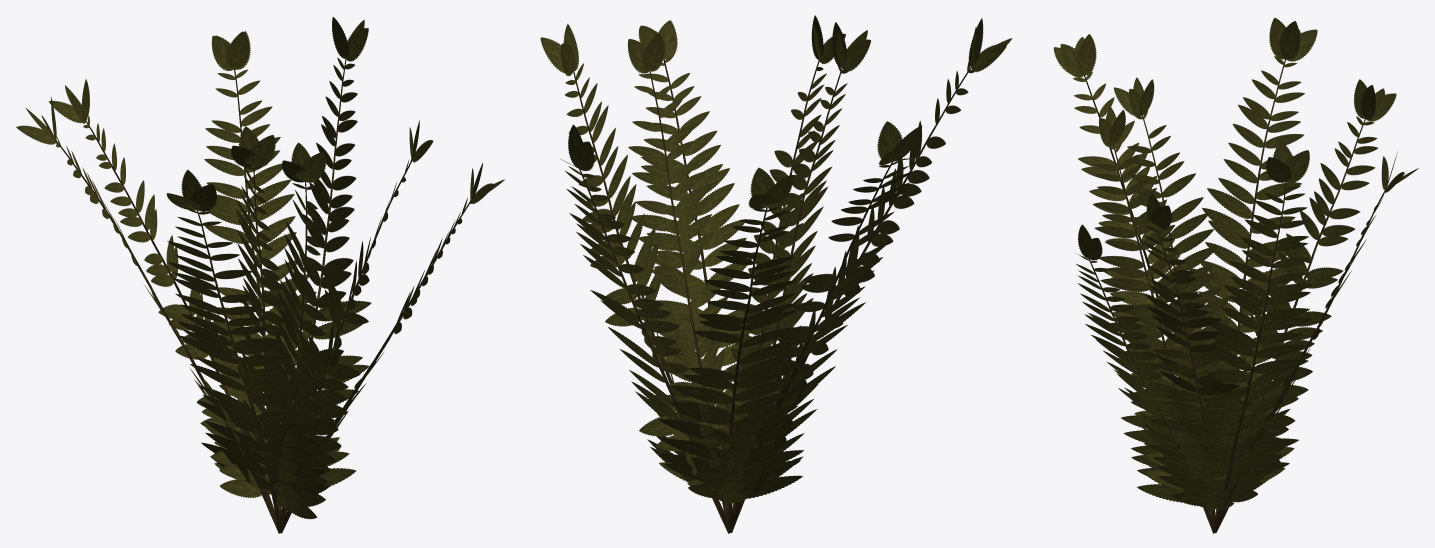
The model's file is royal_fern_v02.glb.
The picture shows the model from 3 angles, left to right: view 1: azimuth 30°, elevation 25°; view 2: azimuth 150°, elevation 25°; view 3: azimuth 270°, elevation 25°; orthographic projection. The views are drawn at different scales.
Visible parts, largest first — view 1: royal_fern_v02; view 2: royal_fern_v02; view 3: royal_fern_v02.
Part boxes in pixels (bbox=[...]): royal_fern_v02: bbox=[16, 17, 504, 533]; royal_fern_v02: bbox=[540, 15, 1012, 533]; royal_fern_v02: bbox=[1053, 17, 1418, 533].
Bounding box in the file's own units: 1.26 × 1.45 × 1.13.
2 materials, 2 textured.
